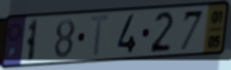1: (26, 17, 40, 65)
2: (150, 10, 176, 56)
4: (115, 13, 138, 57)
7: (179, 10, 206, 52)
8: (52, 16, 77, 61)
T: (88, 13, 114, 60)
